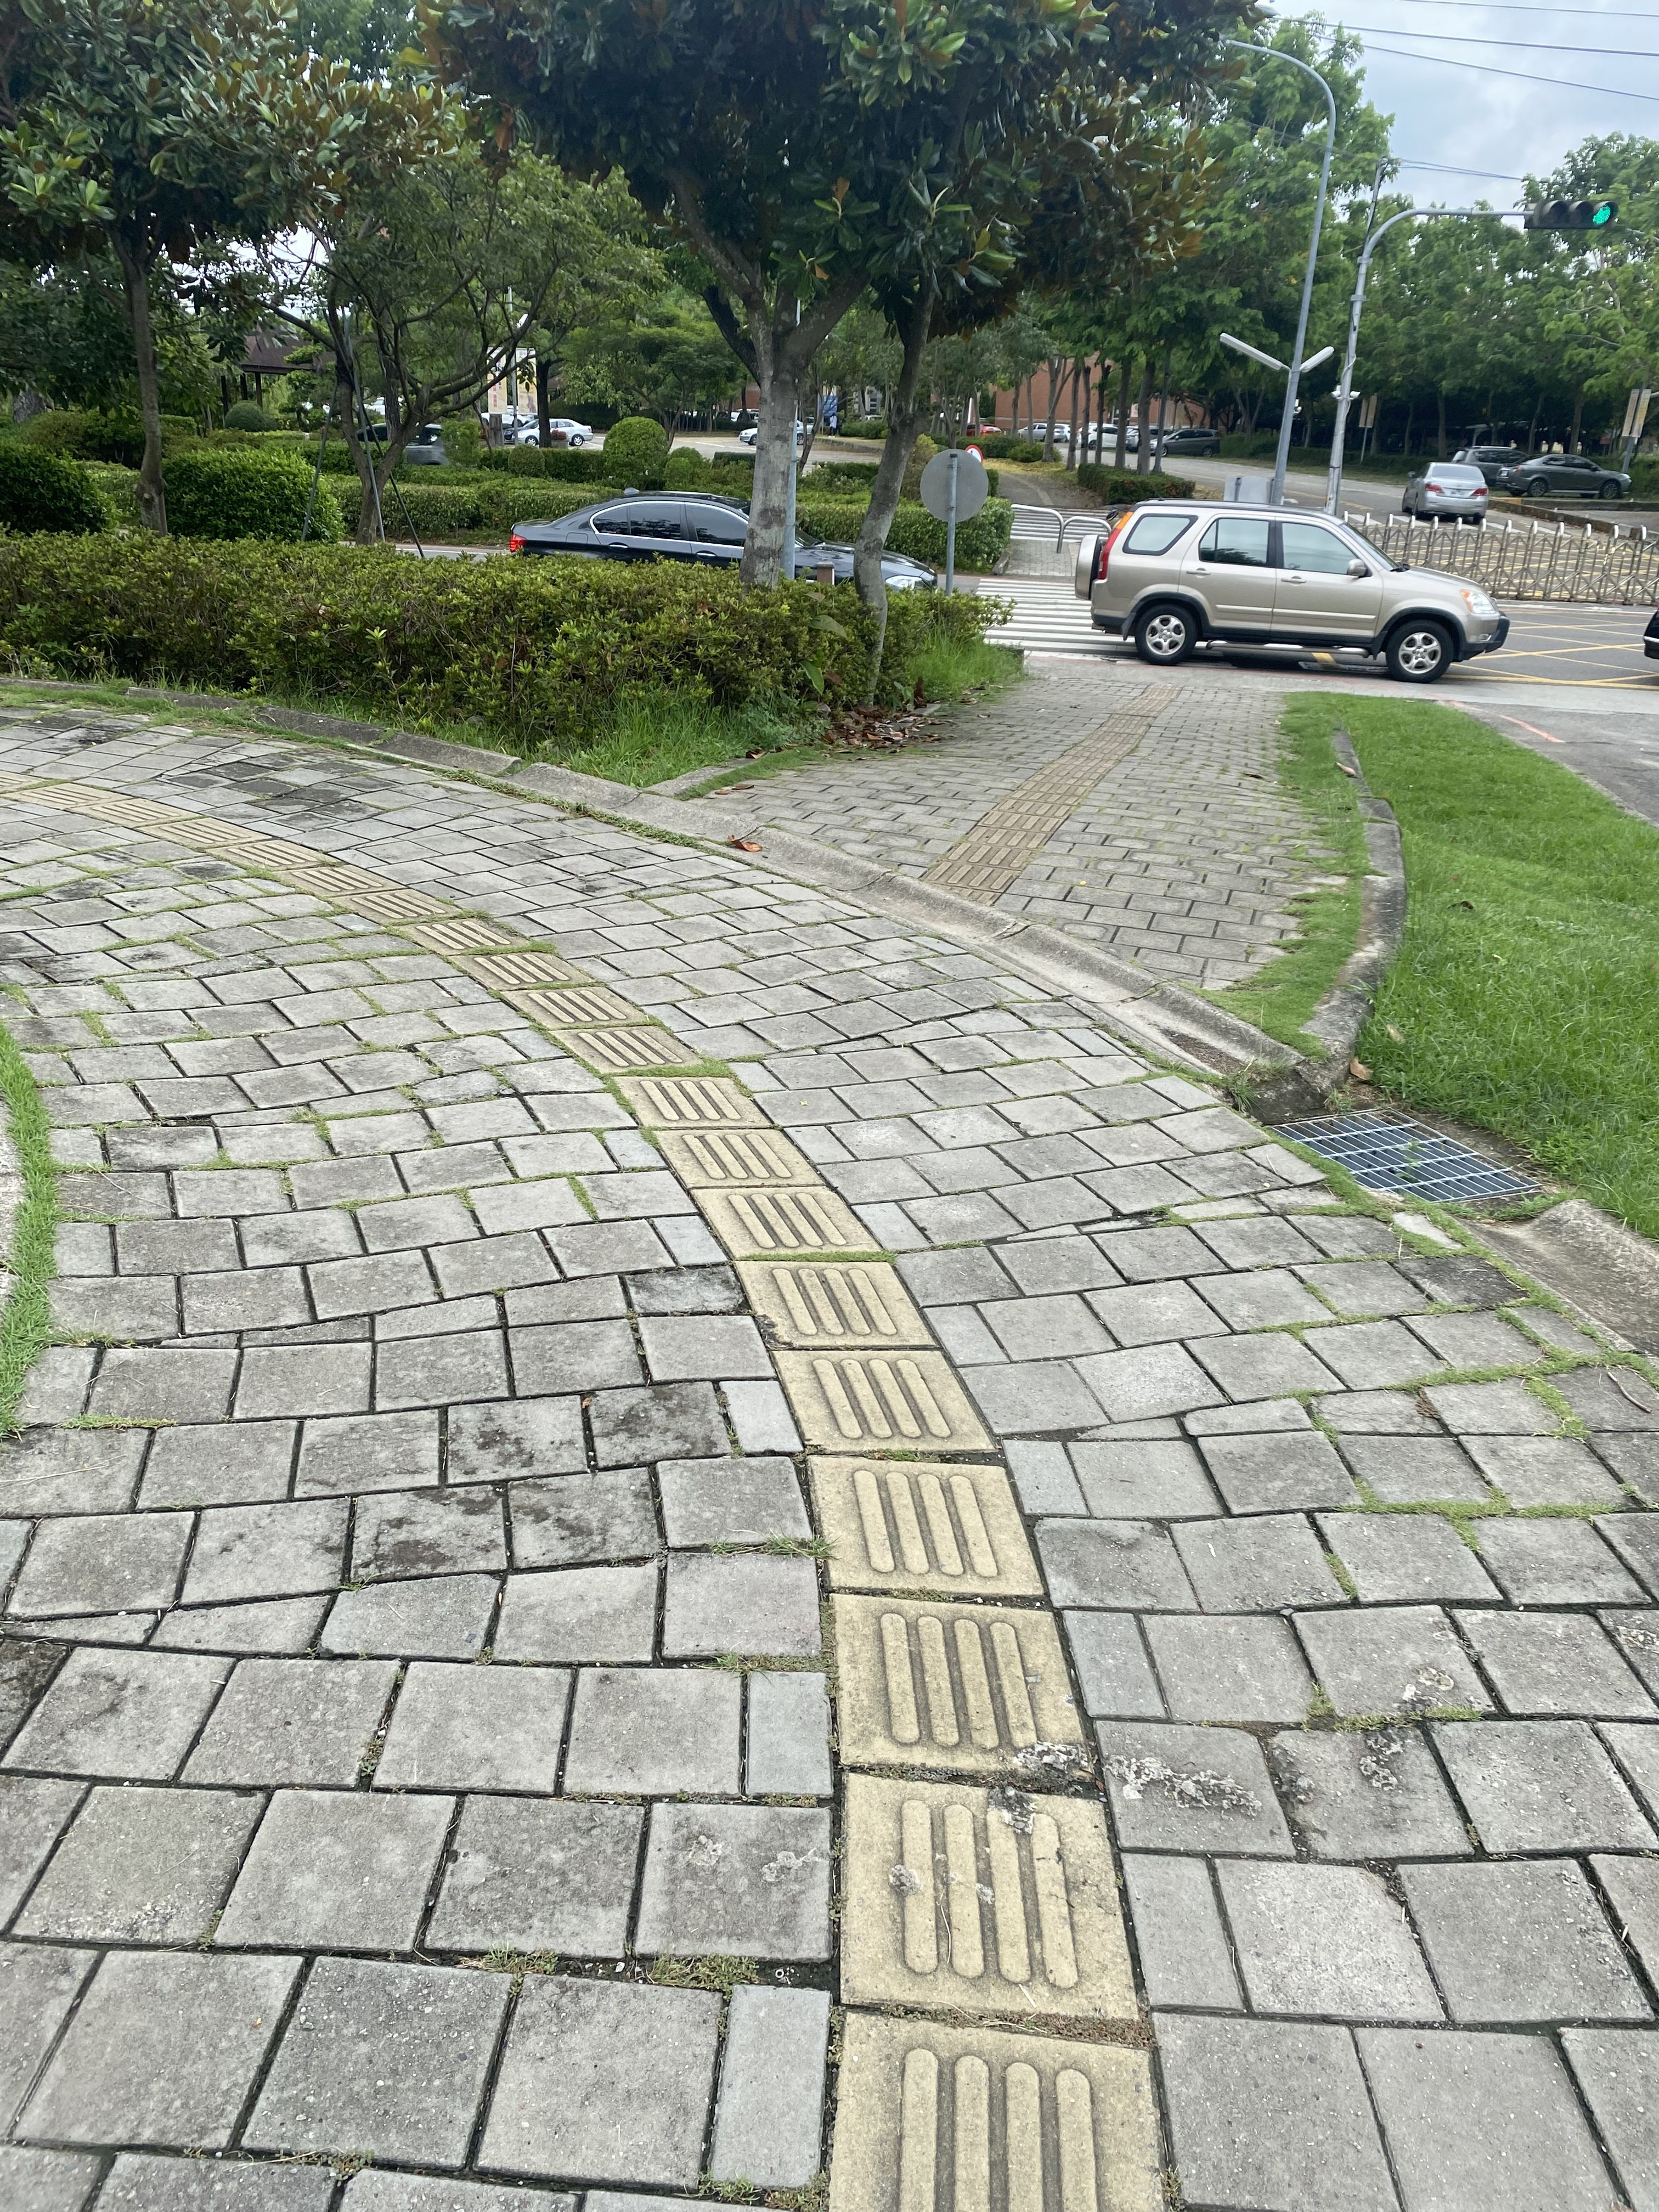sidewalk: (10, 650, 1659, 2212)
